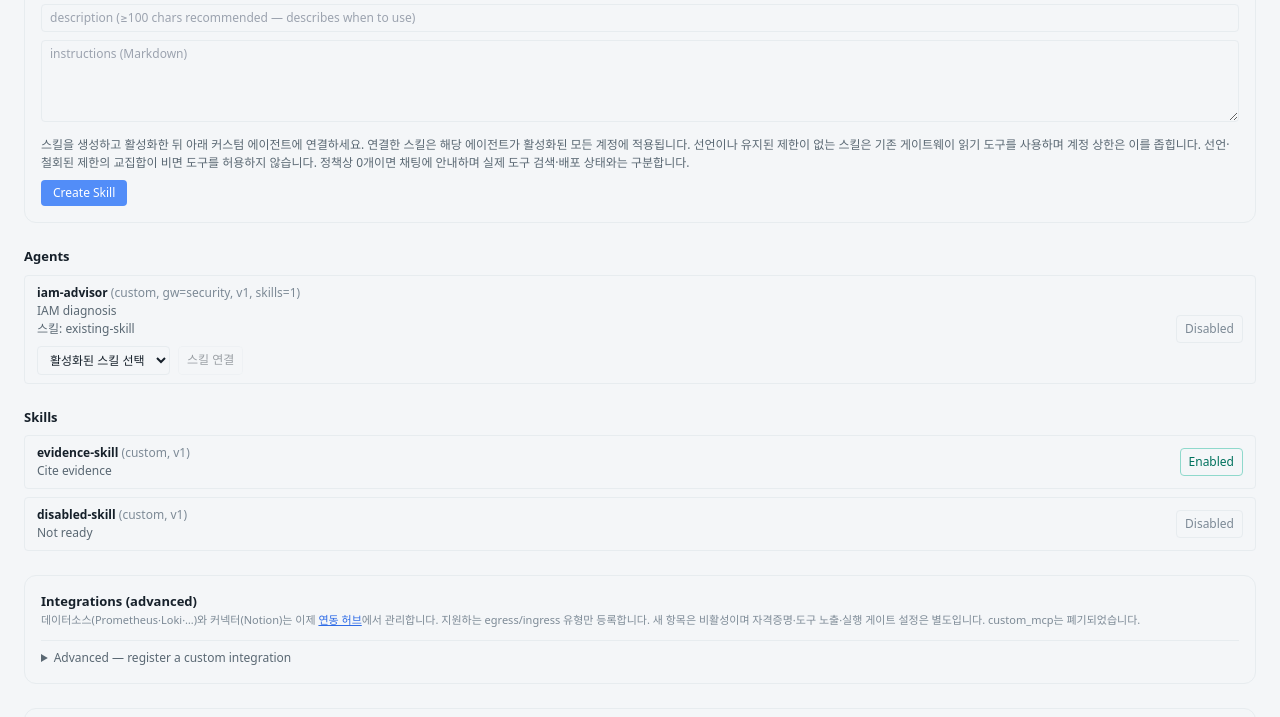
custom agent registration › localizes attachment controls and failure feedback in ko
(page scrolled)
Select "evidence-skill" in the dropdown named "iam-advisor에 연결할 스킬" at coordinates (104, 360), box x1=37 y1=346 x2=170 y2=374
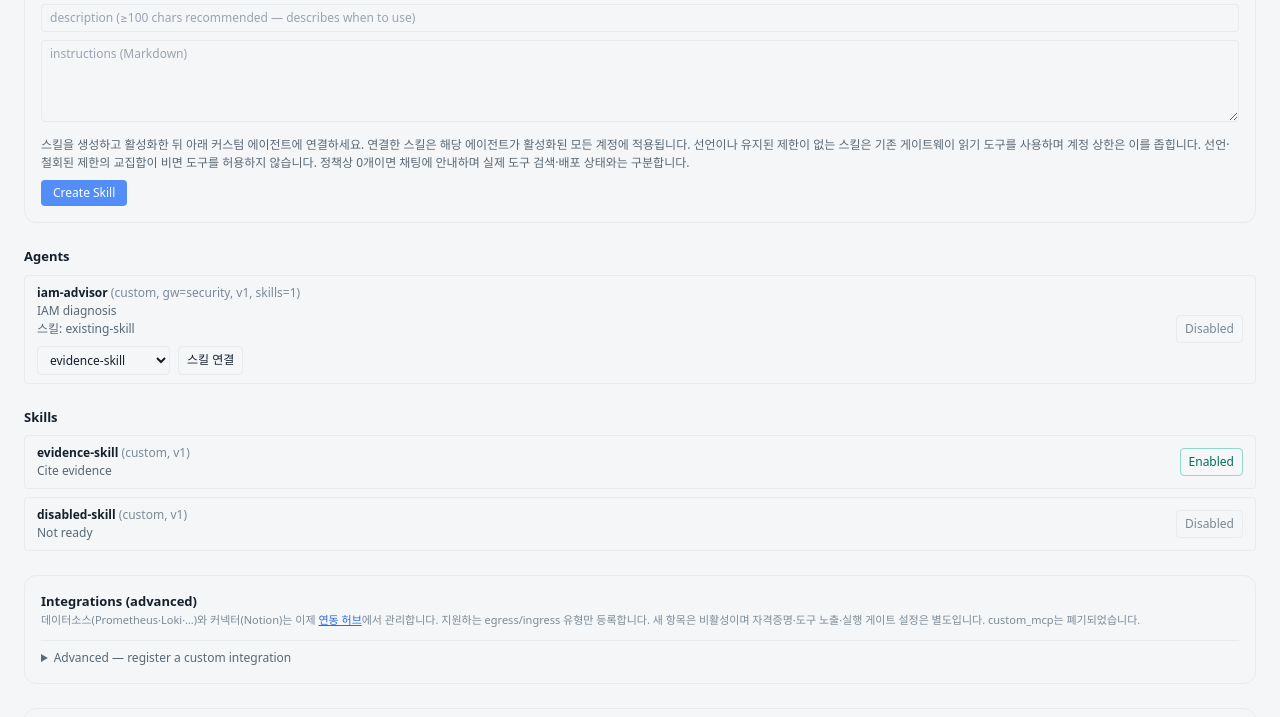
Click the button with aria-label "iam-advisor에 스킬 연결" at coordinates (211, 360), box x1=178 y1=346 x2=243 y2=374
(page scrolled)
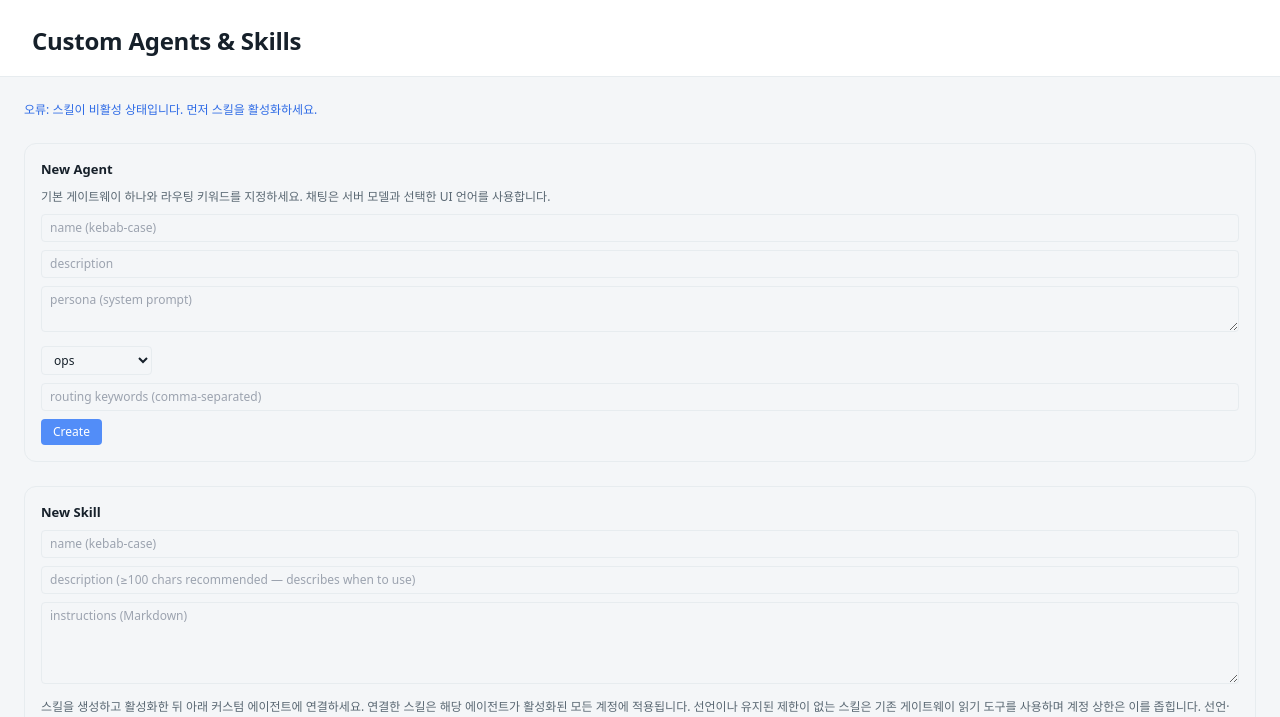
Expected: the text "오류: 스킬이 비활성 상태입니다. 먼저 스킬을 활성화하세요." is shown, x1=24 y1=101 x2=317 y2=118
